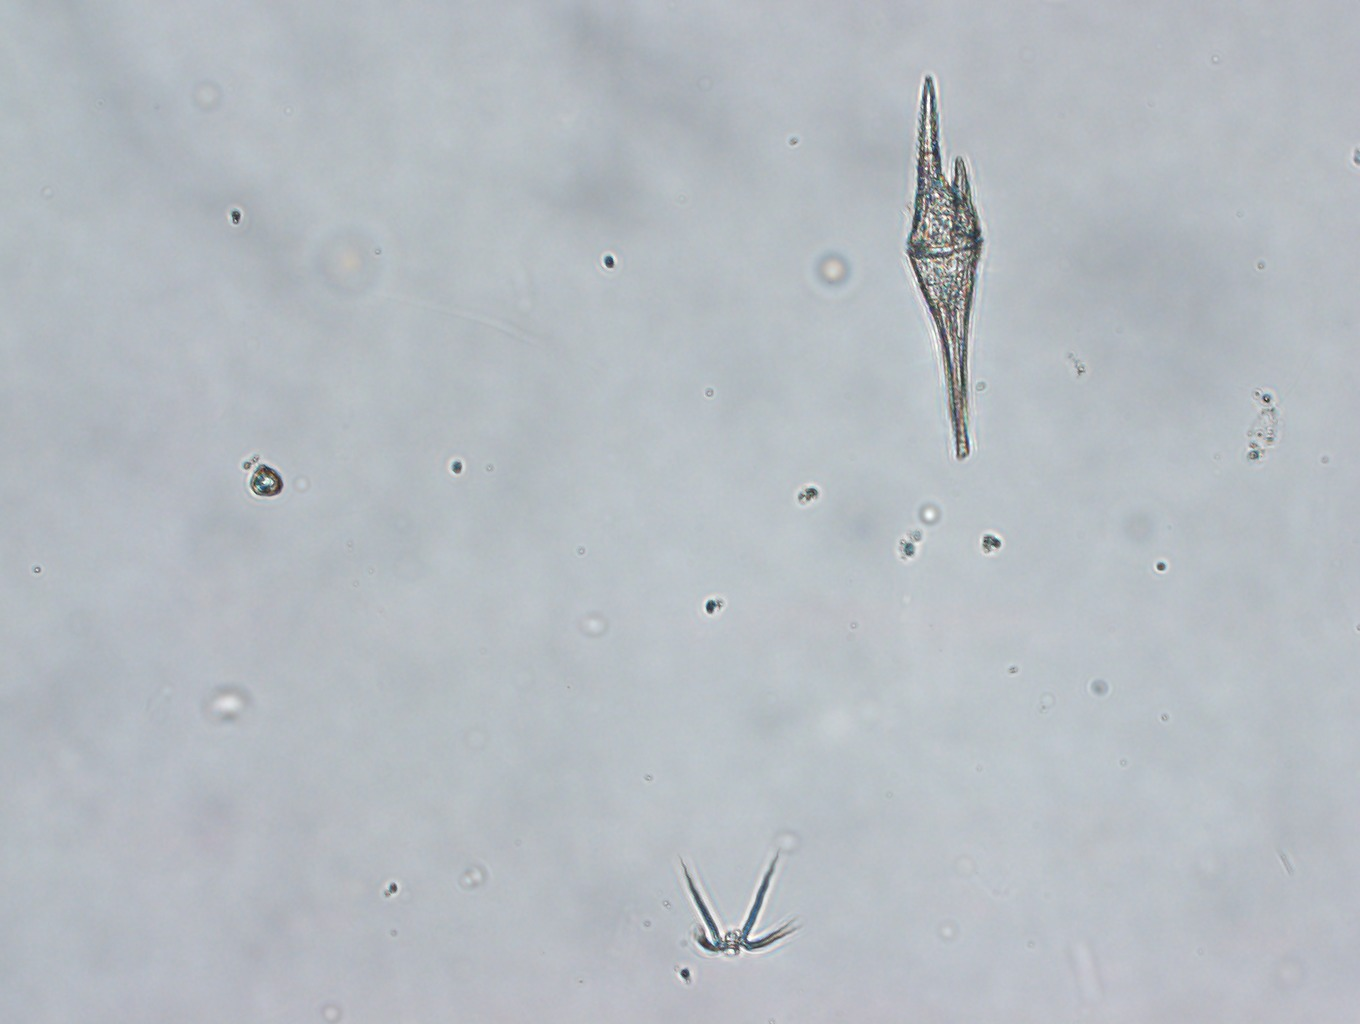ceratium furca: (904, 70, 985, 461)
chaetoceros: (675, 848, 803, 956)
